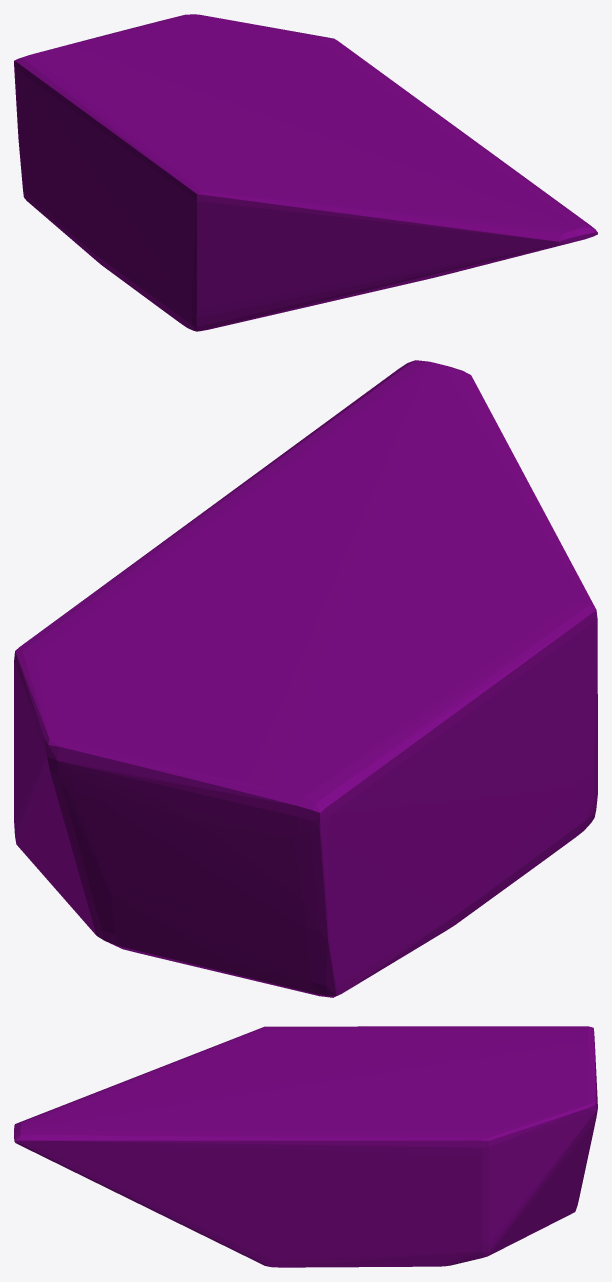
Rendered from right-hip-pitch-0_part_11.obj.
3 views of the same model, one above another, from view 1: azimuth 30°, elevation 25°; view 2: azimuth 150°, elevation 25°; view 3: azimuth 270°, elevation 25° (orthographic). The views are drawn at different scales.
Bounding box in the file's own units: 0.0665 × 0.0359 × 0.1413.
